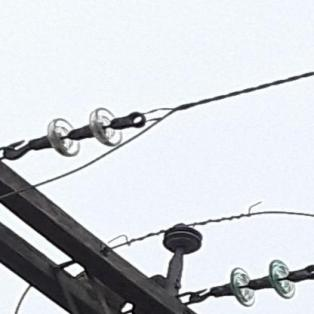Poste: (72, 271, 193, 314)
